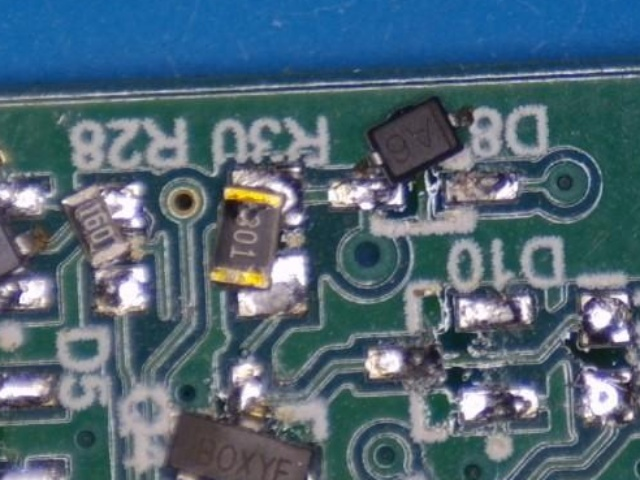pcb_defect: (164, 364, 316, 480), (330, 97, 473, 207), (208, 166, 307, 317), (58, 183, 145, 313)
